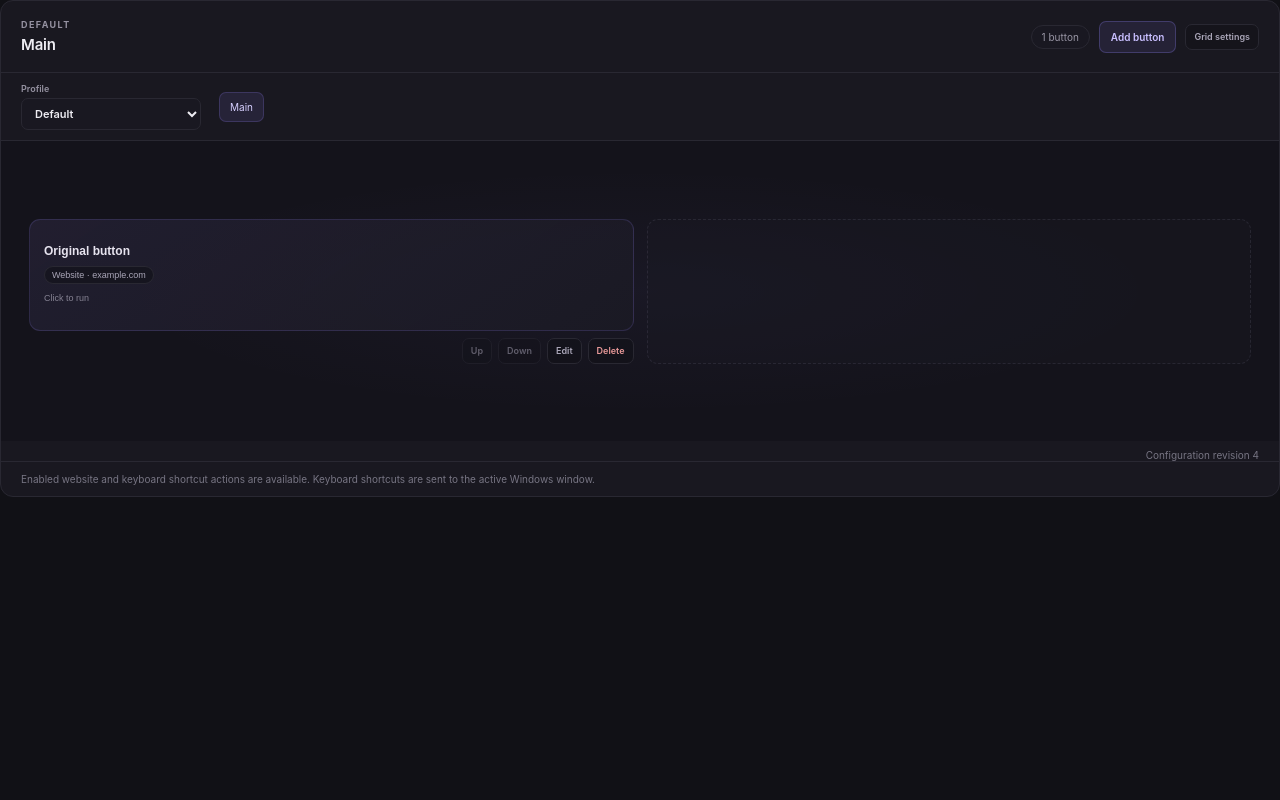
ConfigurationButtonGrid › edits the selected website inline without changing its stable action ID
Click the button with aria-label "Edit Original button" at (564, 350), box [547,338,582,364]
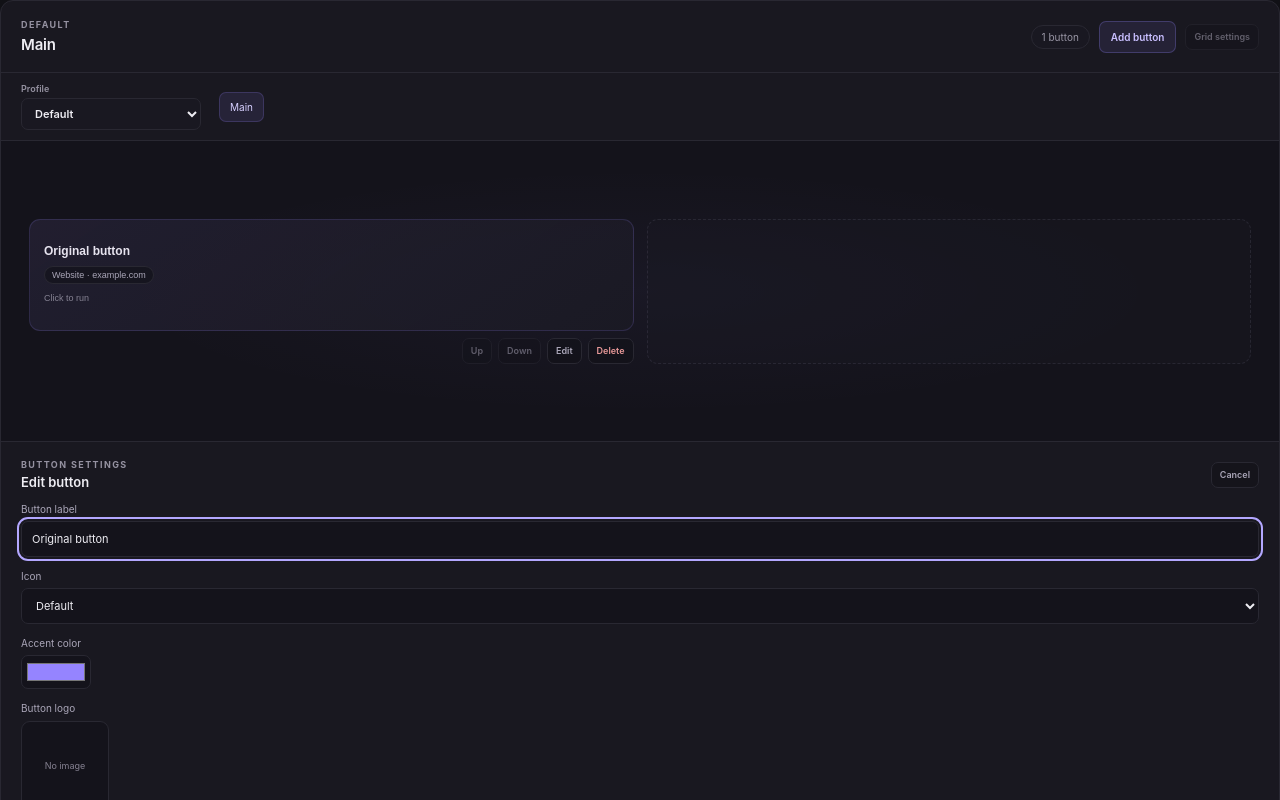
Replace the text in the field labelled "Button label" with "My own label" at (640, 539), box [21,521,1259,557]
(page scrolled)
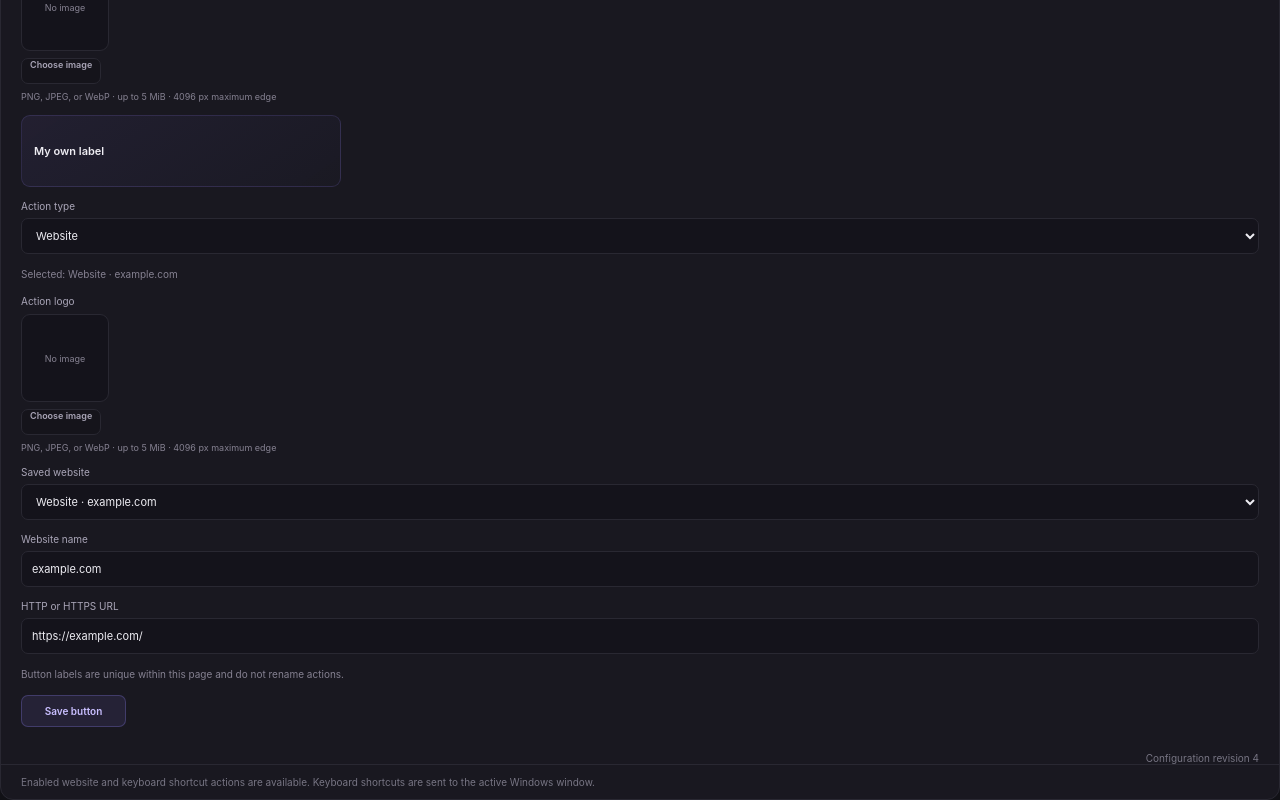
Replace the text in the field labelled "Website name" with "Product home" at (640, 569), box [21,551,1259,587]
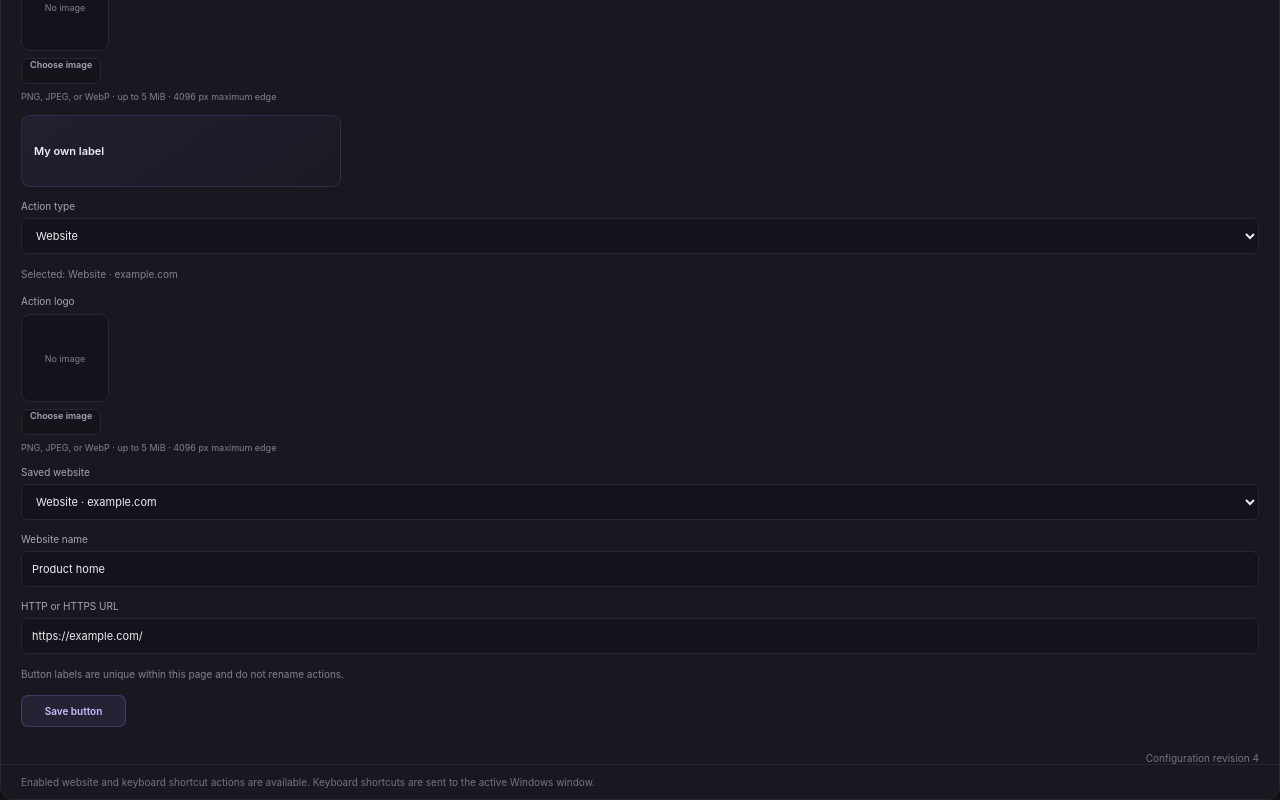
Replace the text in the field named "Website URL" with "https://product.example.net/docs" at (640, 636), box [21,618,1259,654]
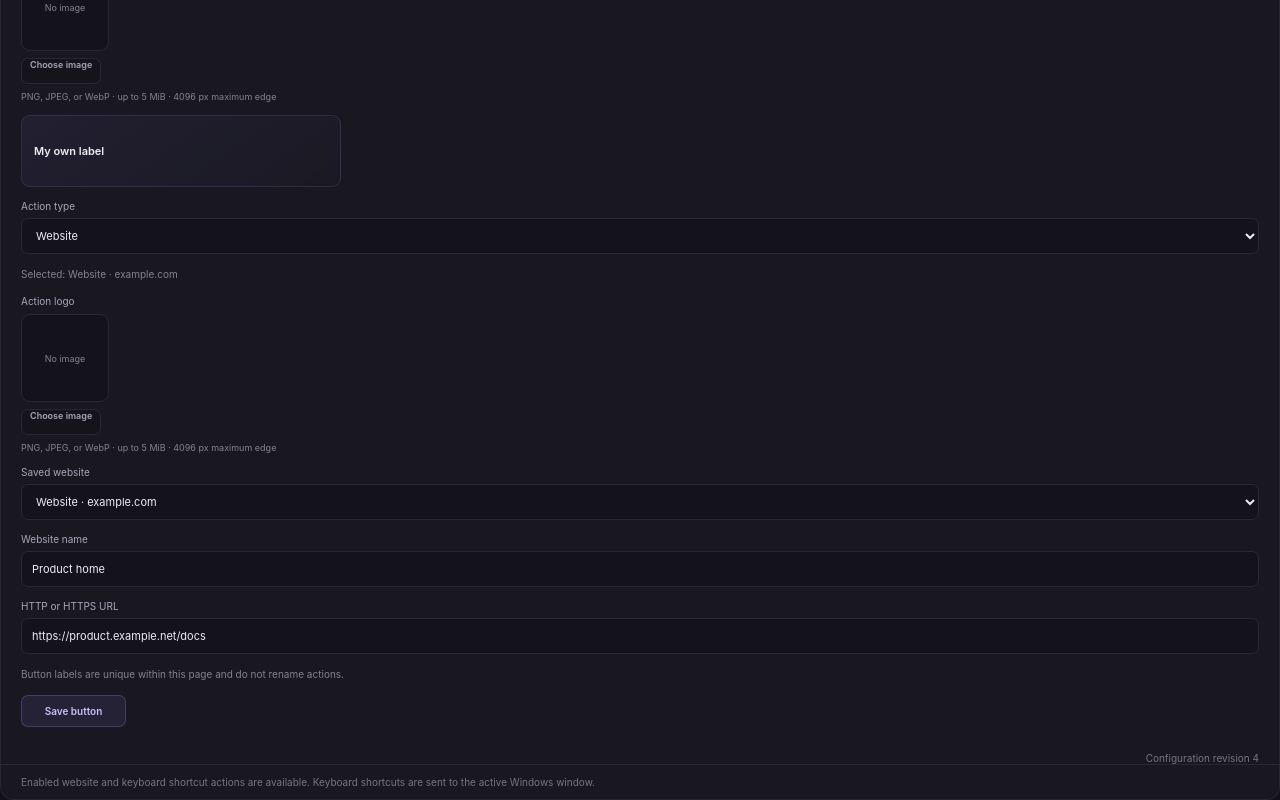
Click the button "Save button" at (74, 711), box [21,695,126,727]
(page scrolled)
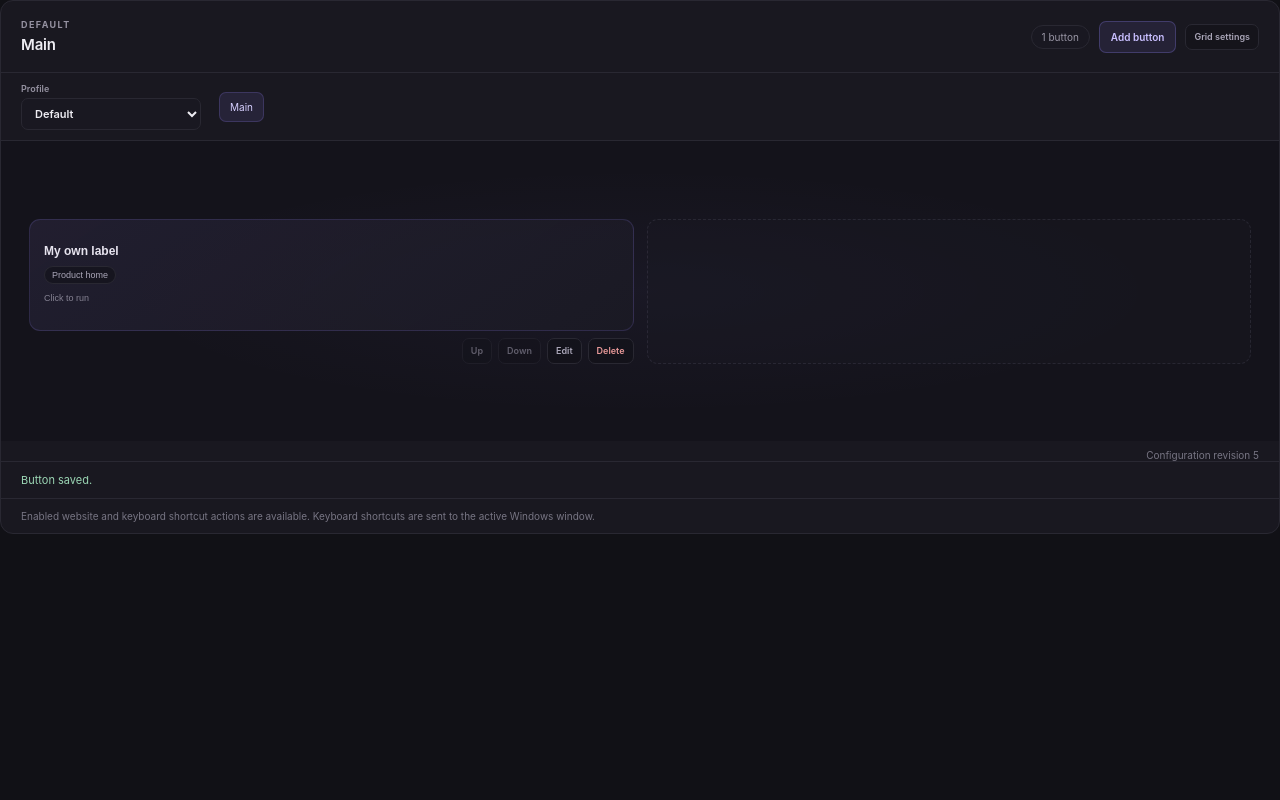
expect the text "Button saved." is shown: met, box [1,461,1279,498]
